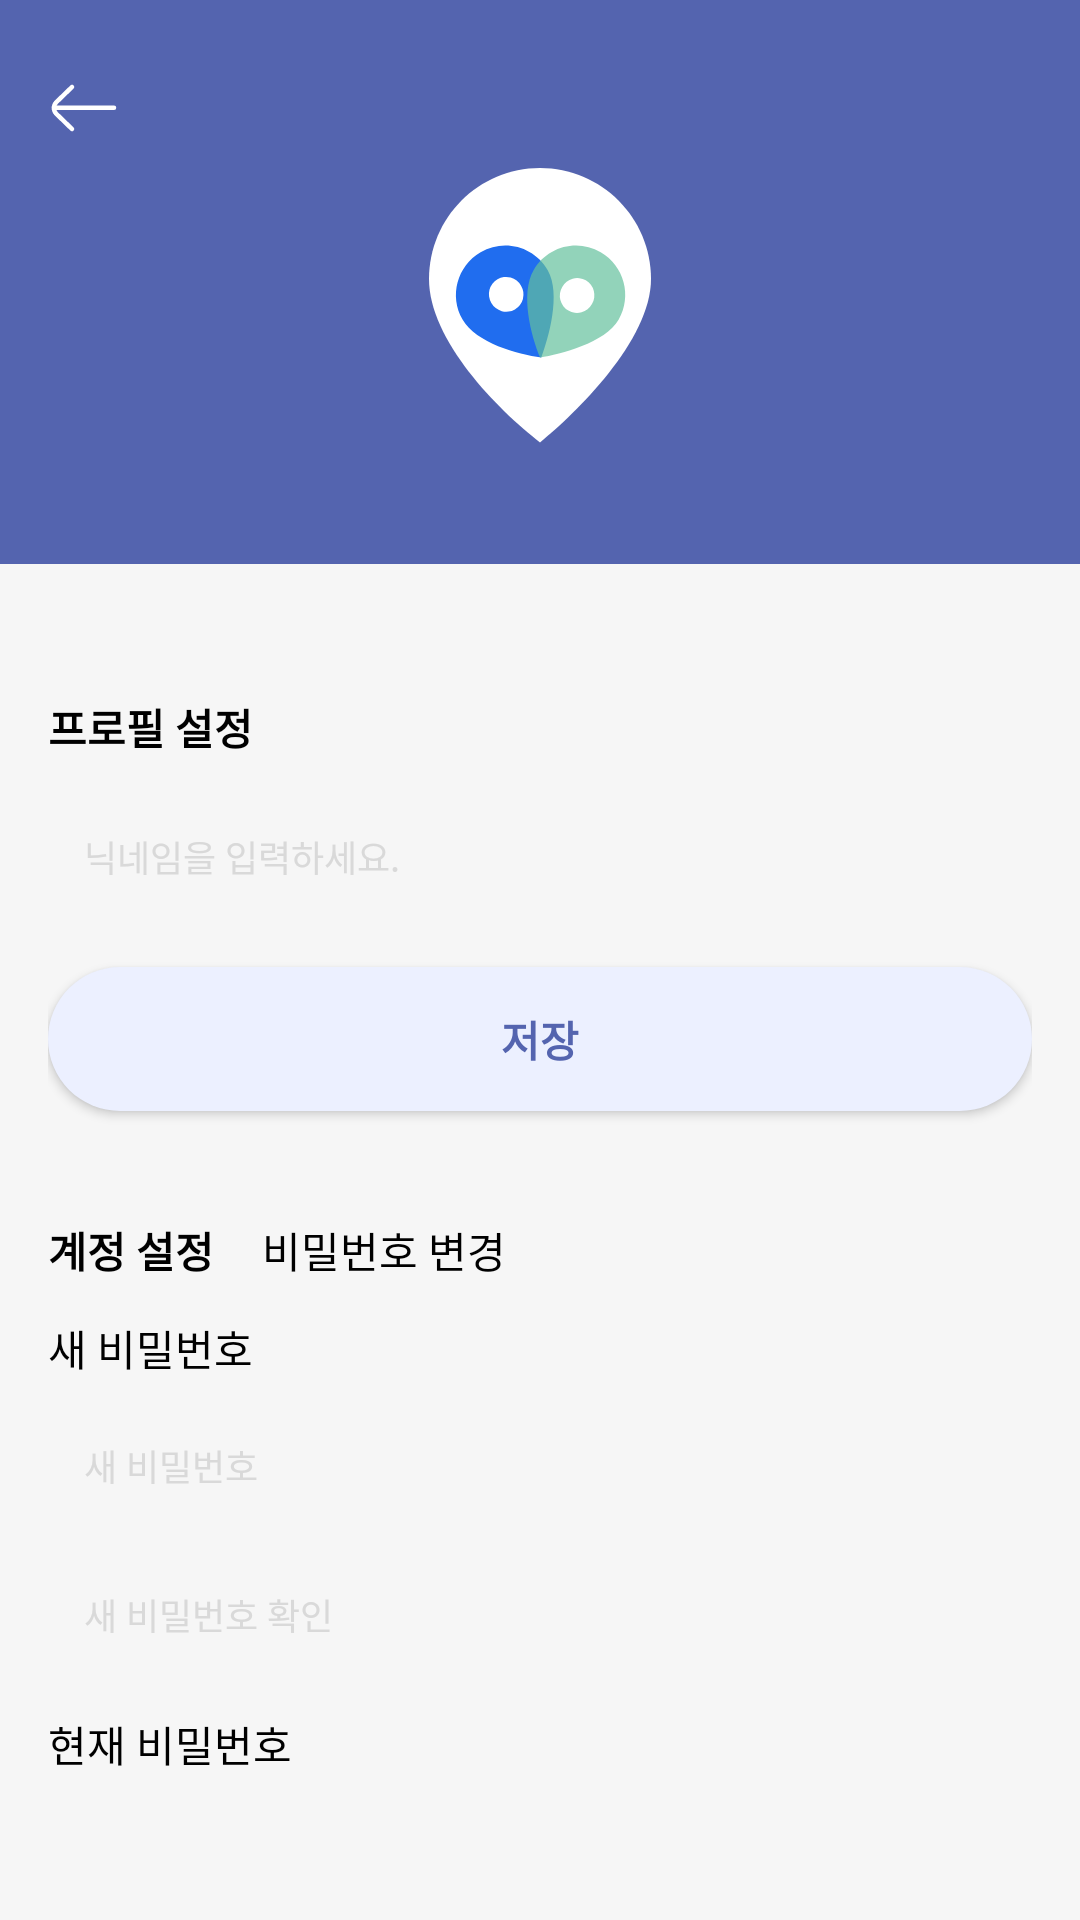

Where icons sit on this 1080 x 1920 app screen, as {"x1": x1, "y1": y1, "x2": x2, "y2": y2}:
back: {"x1": 51, "y1": 84, "x2": 117, "y2": 132}
